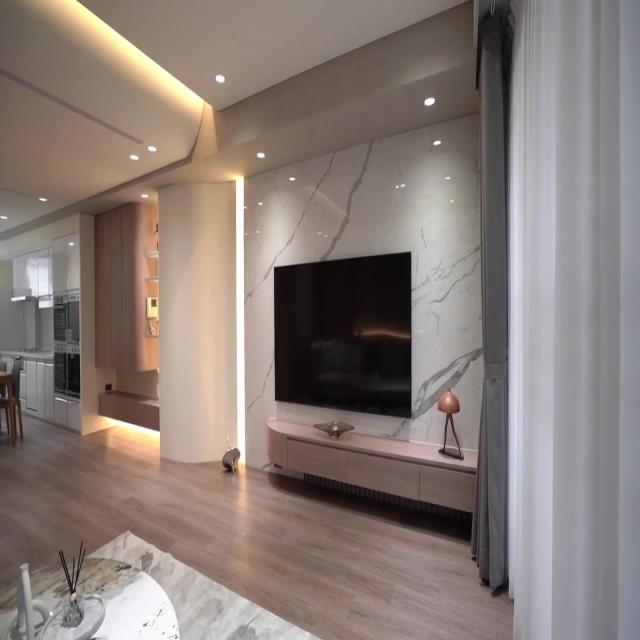obstacle: (0, 528, 322, 639), (264, 420, 479, 526)
